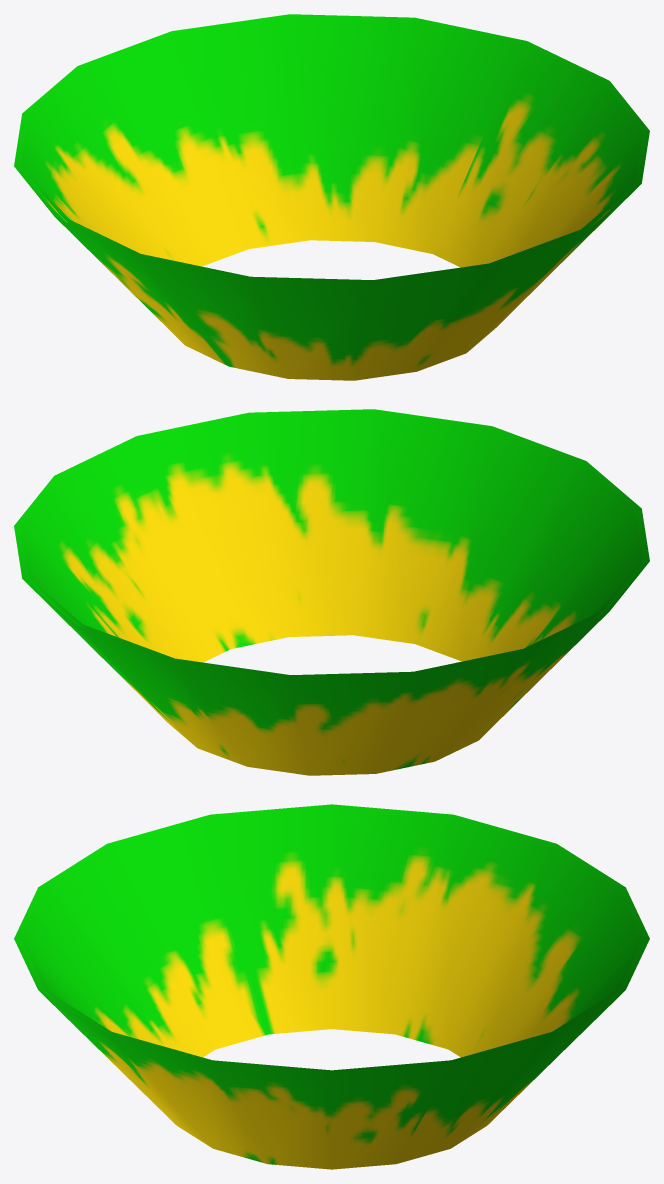
Rendered from p_watercylinder01.fbx.
3 views of the same model, one above another, from view 1: azimuth 30°, elevation 25°; view 2: azimuth 150°, elevation 25°; view 3: azimuth 270°, elevation 25° (orthographic).
Visible parts, largest first — view 1: pCylinder6; view 2: pCylinder6; view 3: pCylinder6.
Part boxes in pixels (<box>): pCylinder6: <box>14,14,649,380</box>; pCylinder6: <box>14,409,649,775</box>; pCylinder6: <box>14,804,649,1169</box>.
Bounding box in the file's own units: 2.3 × 0.637 × 2.3.
Materials: 1 (1 with a texture image).
